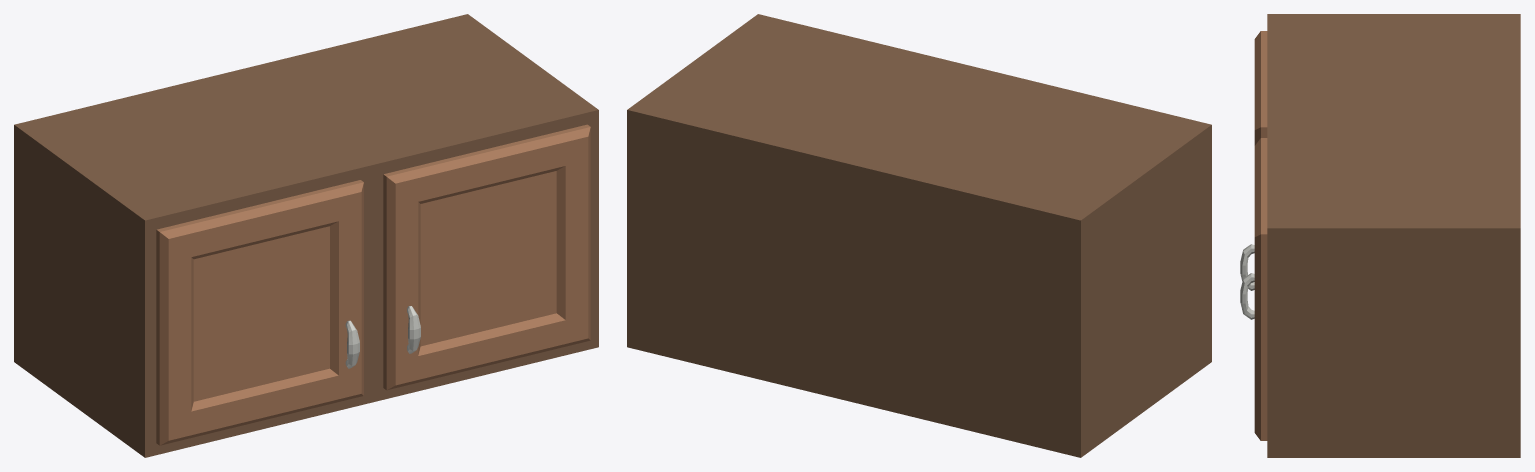
The model's file is Structure_Kitchen_Cabinet_Wall_Short.obj.
The picture shows the model from 3 angles, left to right: view 1: azimuth 30°, elevation 25°; view 2: azimuth 150°, elevation 25°; view 3: azimuth 270°, elevation 25°; orthographic projection. The views are drawn at different scales.
Visible parts, largest first — view 1: object3, object2, object1; view 2: object3; view 3: object3, object2, object1, object4, object5.
Boxes of the visible parts, left/top/right/bottom form: object3: left=14, top=14, right=598, bottom=457; object2: left=383, top=124, right=590, bottom=390; object1: left=156, top=180, right=363, bottom=445; object3: left=627, top=14, right=1211, bottom=457; object3: left=1267, top=14, right=1520, bottom=457; object2: left=1254, top=138, right=1267, bottom=440; object1: left=1254, top=31, right=1267, bottom=145; object4: left=1240, top=273, right=1254, bottom=319; object5: left=1240, top=244, right=1254, bottom=290.
Size of the model in its own units: 1 by 0.5 by 0.5531.
